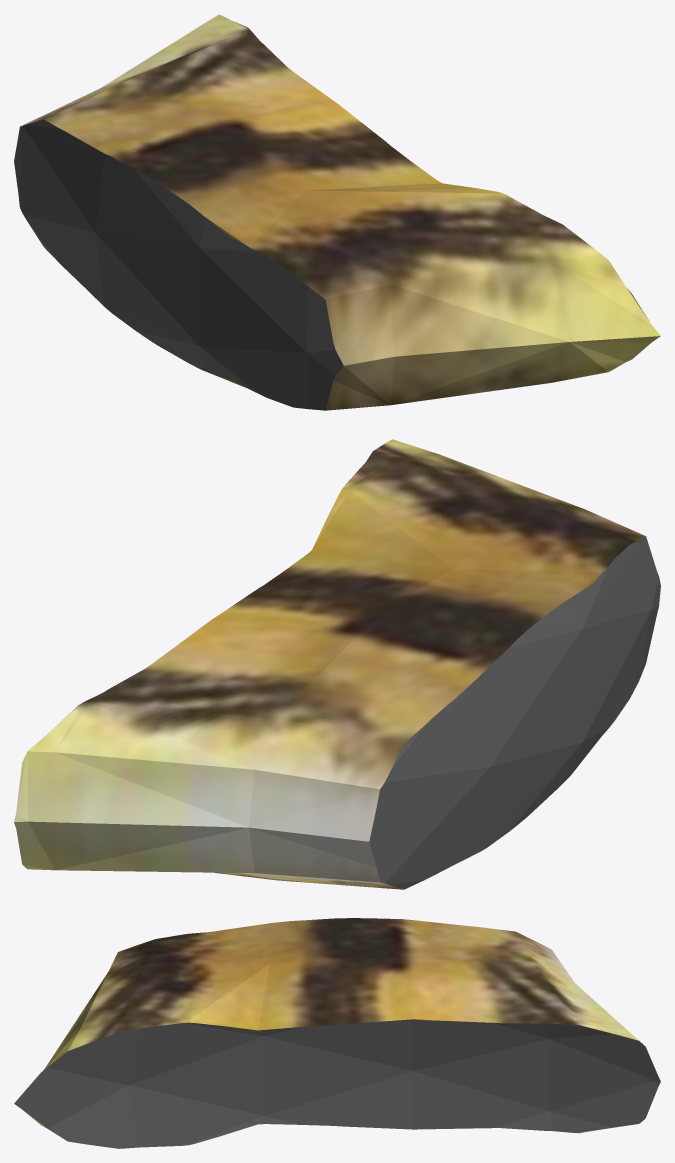
The picture shows the model from 3 angles, top to bottom: view 1: azimuth 30°, elevation 25°; view 2: azimuth 150°, elevation 25°; view 3: azimuth 270°, elevation 25°; orthographic projection. The views are drawn at different scales.
Visible parts, largest first — view 1: link_13_visual; view 2: link_13_visual; view 3: link_13_visual.
Part boxes in pixels (left/top/right/bottom): link_13_visual: left=14, top=14, right=660, bottom=410; link_13_visual: left=14, top=439, right=660, bottom=889; link_13_visual: left=14, top=918, right=660, bottom=1148.
Size of the model in its own units: 0.00111 by 0.000558 by 0.00241.
Materials: 1 (1 with a texture image).
